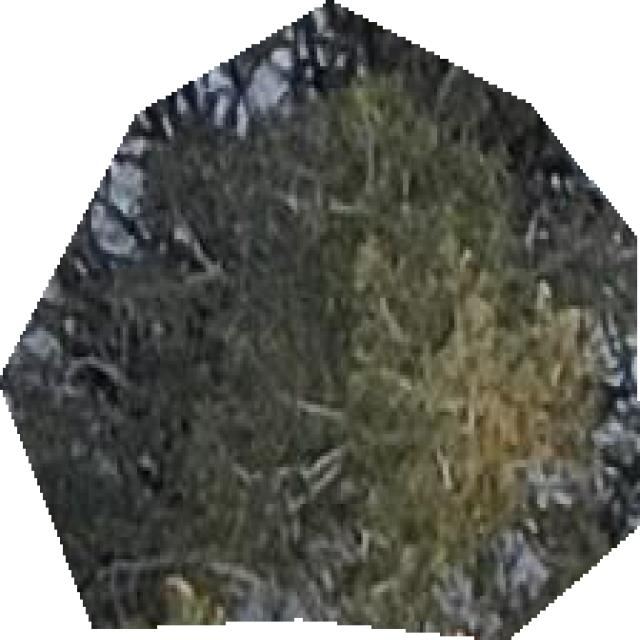spruce: (0, 4, 637, 636)
